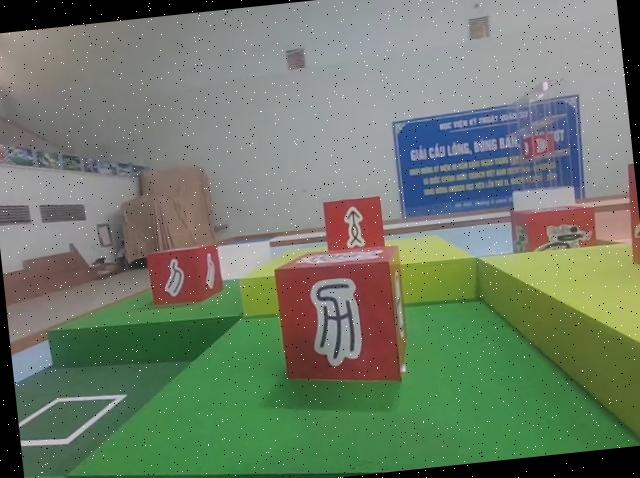R1: (506, 201, 599, 265)
R2 Fake: (271, 242, 416, 395)
R2 Real: (145, 242, 224, 308), (323, 195, 384, 254)
